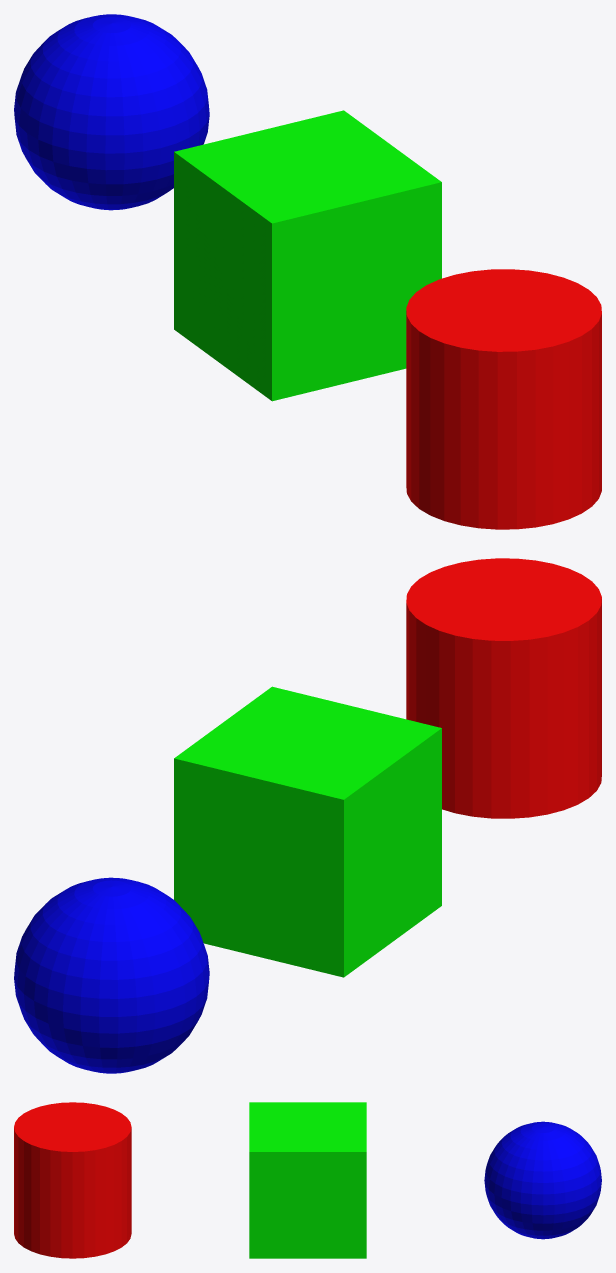
File: color_test.gltf
The picture shows the model from 3 angles, top to bottom: view 1: azimuth 30°, elevation 25°; view 2: azimuth 150°, elevation 25°; view 3: azimuth 270°, elevation 25°; orthographic projection. The views are drawn at different scales.
Parts seen in each view (by area): view 1: Cube, Cylinder, Sphere; view 2: Cube, Cylinder, Sphere; view 3: Cube, Cylinder, Sphere.
Part boxes in pixels (box(x1,y1,x2,y2)): Cube: box(174, 110, 441, 401); Cylinder: box(406, 269, 601, 529); Sphere: box(14, 14, 209, 210); Cube: box(174, 686, 441, 977); Cylinder: box(406, 558, 601, 818); Sphere: box(14, 877, 209, 1073); Cube: box(249, 1102, 366, 1258); Cylinder: box(14, 1102, 131, 1258); Sphere: box(484, 1121, 601, 1239).
Size of the model in its own units: 2 by 2 by 10.
